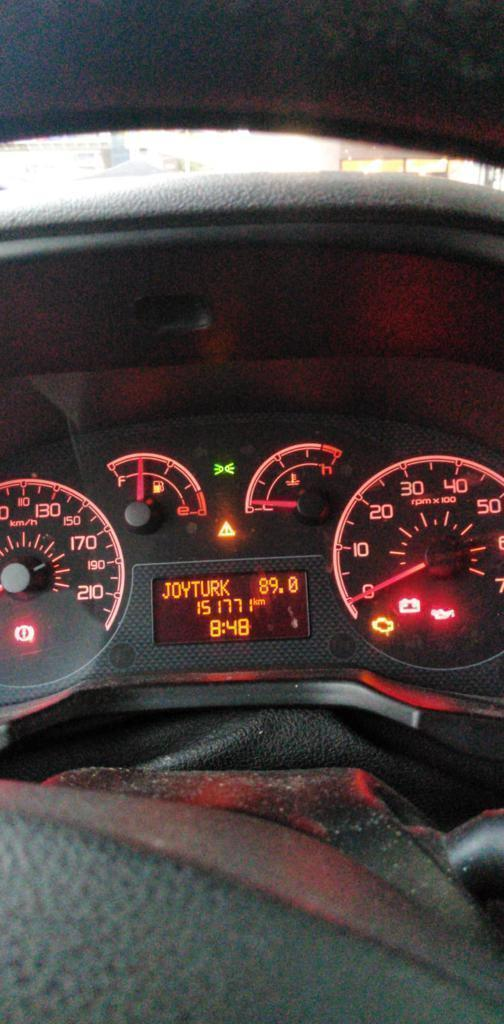,: (278, 586, 285, 594)
0: (287, 575, 298, 593)
1: (248, 597, 253, 613), (196, 599, 200, 616), (217, 599, 221, 614)
4: (225, 618, 237, 636)
5: (201, 599, 212, 616)
7: (233, 598, 243, 613), (222, 598, 232, 613)
8: (237, 617, 249, 636), (209, 618, 221, 637), (258, 576, 268, 595)
9: (268, 575, 278, 594)
X: (220, 578, 231, 596), (161, 581, 171, 599), (181, 580, 191, 598), (200, 579, 210, 597), (210, 579, 220, 597), (171, 580, 180, 599), (191, 580, 199, 597), (257, 598, 266, 605), (221, 621, 225, 634), (253, 597, 257, 606)
odometer: (147, 568, 314, 649)
